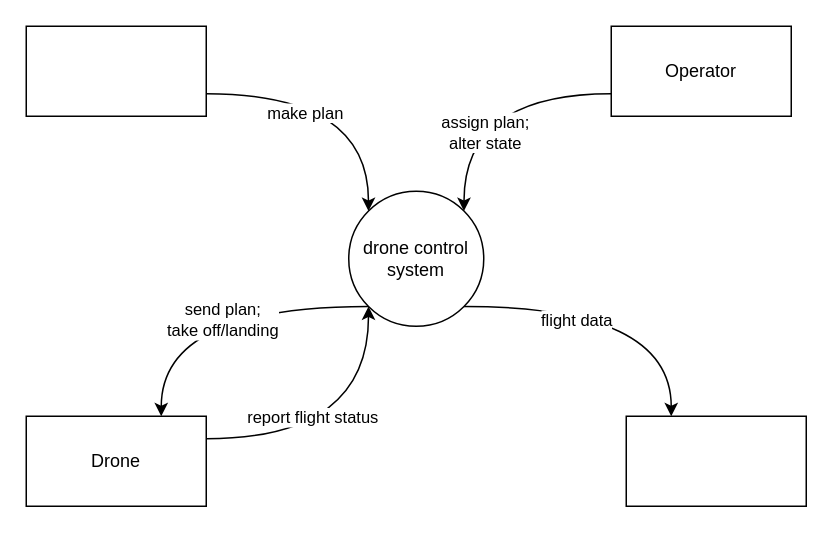
This 833x533 diagram has some shape labels left out. Here are the shapes that lost their labels. From the top down, the centre of each, then its label:
At pixel 115 70: "User".
At pixel 715 460: "data center".
